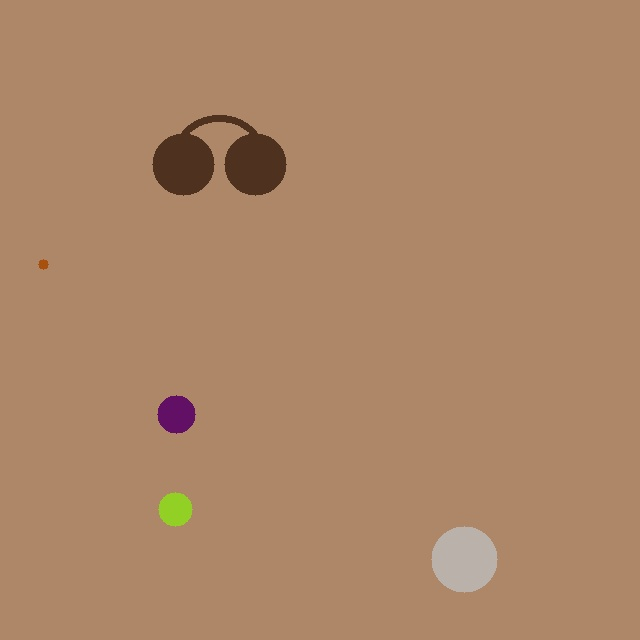over_ear: (148, 107, 290, 199)
